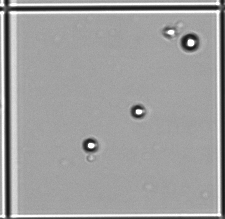Living Cell: (180, 32, 201, 52), (83, 138, 99, 152), (131, 105, 145, 118), (162, 26, 177, 37)
